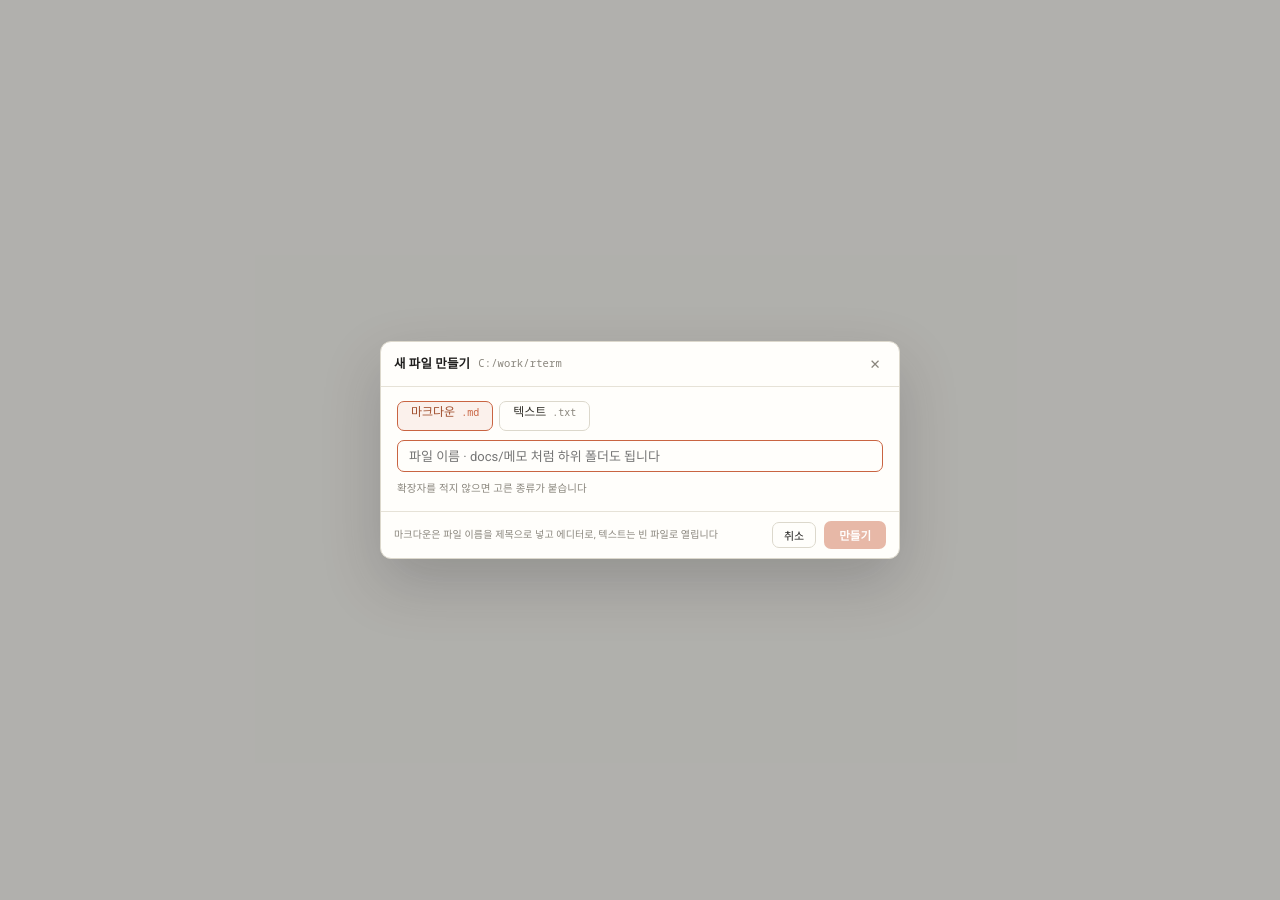
Scenario: NewFileDialog › 쓸 수 없는 이름은 누르기 전에 알려 준다
Type "../밖으로.md" into the field with class "newfile__name".
click(640, 456); type("../밖으로.md")  # box [397,440,883,472]
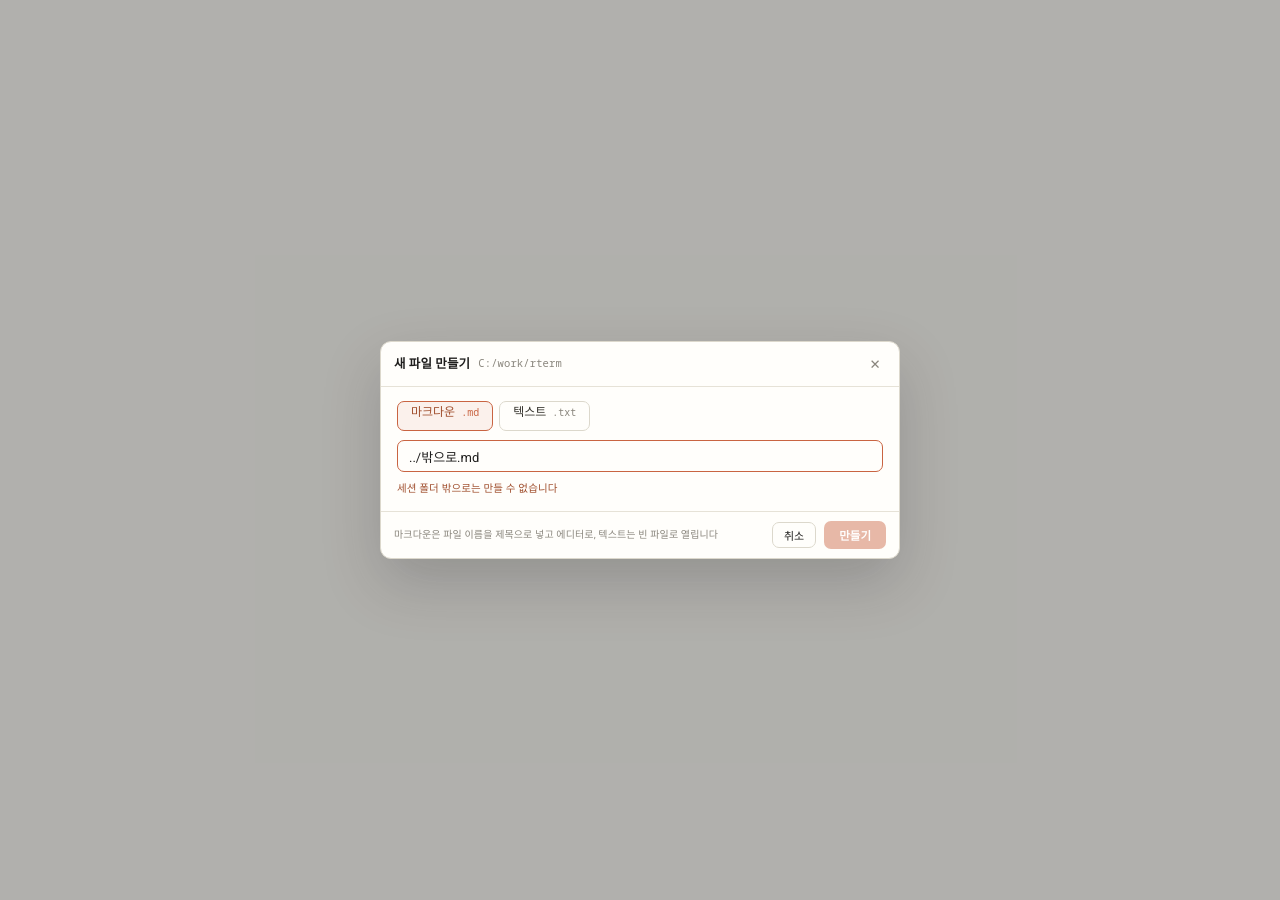
Expected: the button "만들기" is disabled, [824,521,886,549]
Expected: the text with class "newfile__note" shows "밖으로는", [397,482,558,495]
